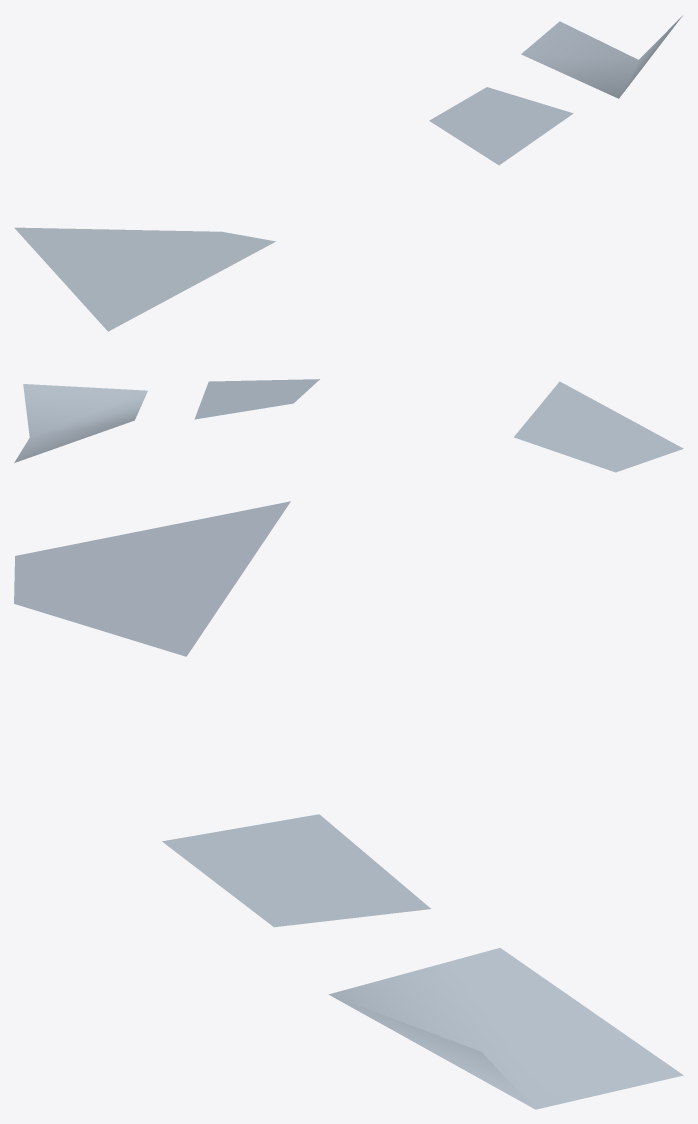
The model's file is deep-transverse-metatarsal-ligament-l.glb.
3 renders of one model, top to bottom at view 1: azimuth 30°, elevation 25°; view 2: azimuth 150°, elevation 25°; view 3: azimuth 270°, elevation 25°, orthographic. The views are drawn at different scales.
Parts seen in each view (by area): view 1: Deep transverse metatarsal ligament.l; view 2: Deep transverse metatarsal ligament.l; view 3: Deep transverse metatarsal ligament.l.
Boxes of the visible parts, left/top/right/bottom form: Deep transverse metatarsal ligament.l: left=14, top=15, right=682, bottom=331; Deep transverse metatarsal ligament.l: left=14, top=379, right=683, bottom=472; Deep transverse metatarsal ligament.l: left=14, top=501, right=683, bottom=1109.
Size of the model in its own units: 0.0539 by 0.00652 by 0.0287.
